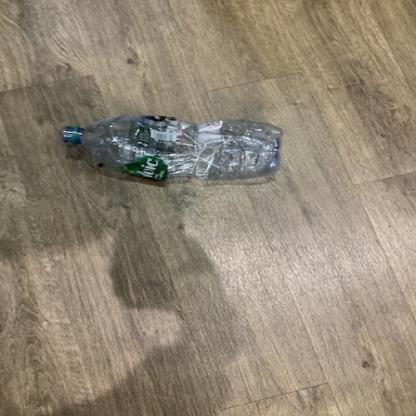trash: (58, 112, 280, 181)
